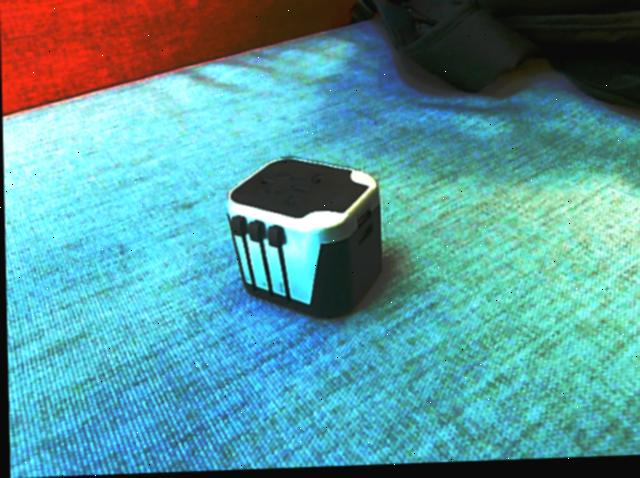adapter: (222, 155, 382, 324)
